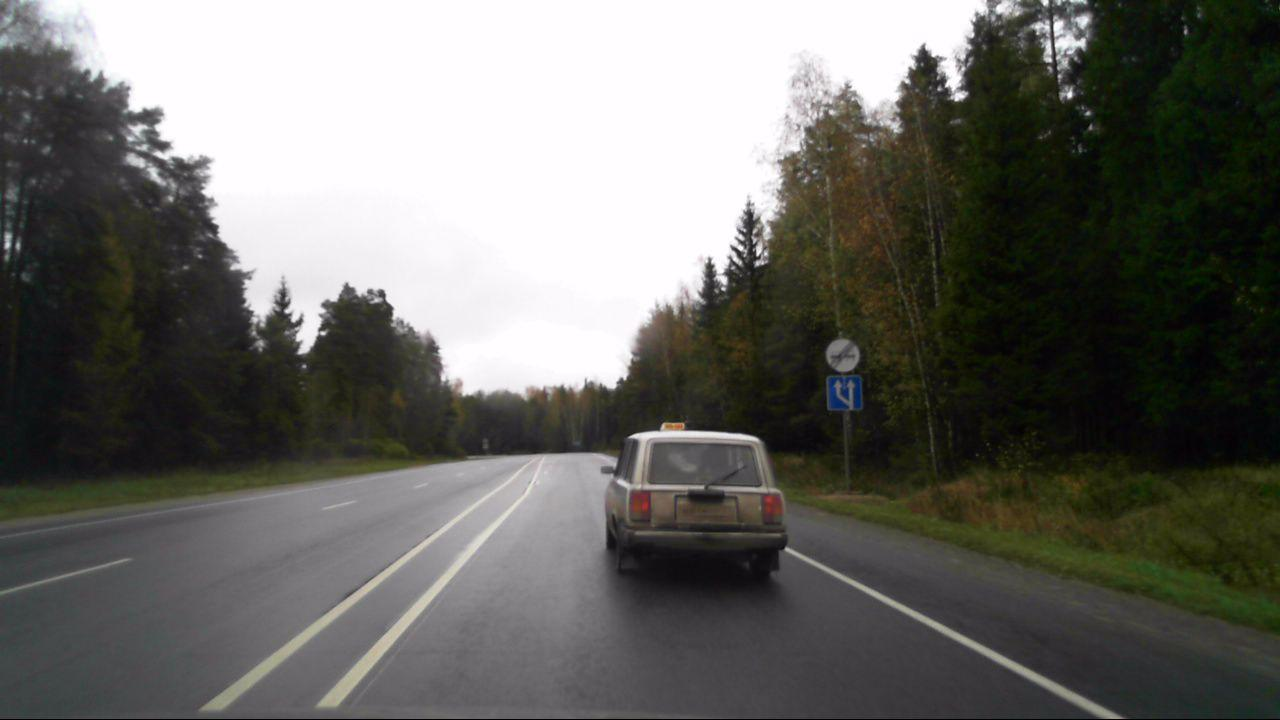3_21: (825, 336, 861, 374)
5_15_4: (824, 375, 864, 410)
